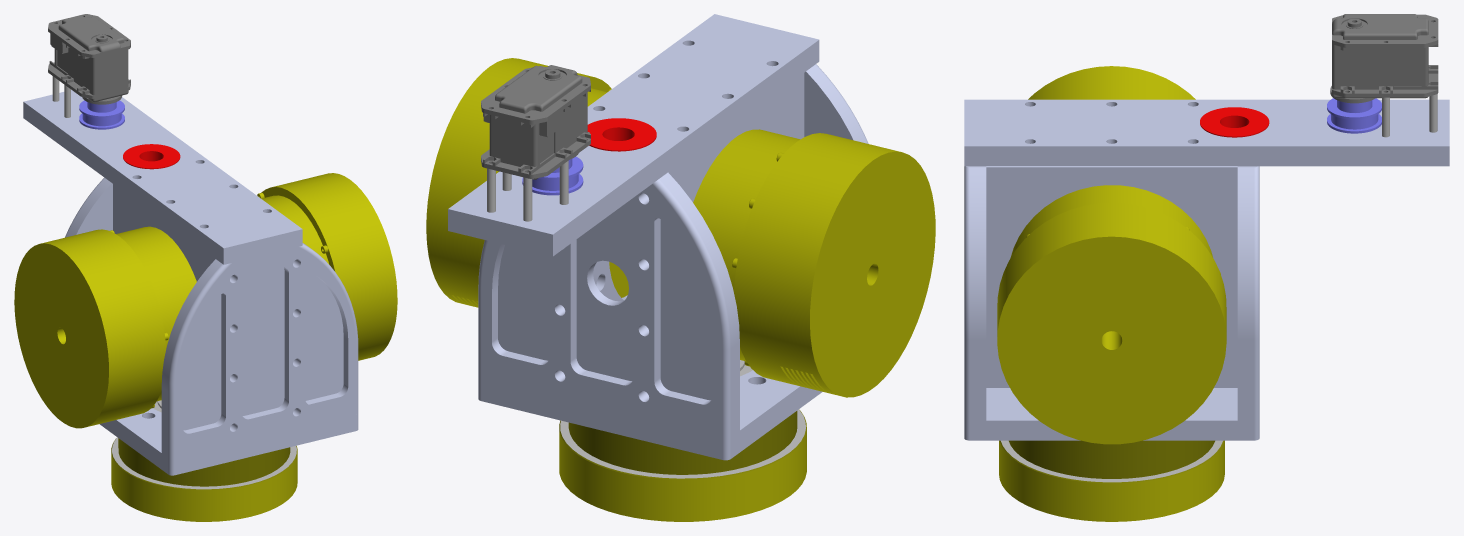
Rendered from bracket.dae.
The picture shows the model from 3 angles, left to right: view 1: azimuth 30°, elevation 25°; view 2: azimuth 150°, elevation 25°; view 3: azimuth 270°, elevation 25°; orthographic projection. The views are drawn at different scales.
Parts seen in each view (by area): view 1: Actor0, Actor5, Actor10, Actor6, Actor4, Actor9, Actor15, Actor3, Actor1, Actor7, Actor8; view 2: Actor5, Actor1, Actor10, Actor4, Actor6, Actor9, Actor15, Actor3, Actor0, Actor7, Actor8, Actor2; view 3: Actor6, Actor10, Actor2, Actor4, Actor9, Actor15, Actor0, Actor1, Actor5, Actor7, Actor8.
Boxes of the visible parts, x1,y1,x2,y2 form: Actor0: (161,243,358,458); Actor5: (14,226,196,428); Actor10: (23,90,302,264); Actor6: (257,173,397,360); Actor4: (111,400,297,521); Actor9: (48,14,130,104); Actor15: (99,408,358,475); Actor3: (113,184,215,281); Actor1: (65,177,112,237); Actor7: (123,144,180,169); Actor8: (79,100,124,129); Actor5: (693,129,935,397); Actor1: (478,172,739,438); Actor10: (448,14,819,256); Actor4: (559,360,806,521); Actor6: (426,58,628,307); Actor9: (481,65,590,179); Actor15: (478,370,822,460); Actor3: (668,73,804,202); Actor0: (804,64,868,143); Actor7: (587,118,656,151); Actor8: (522,156,583,195); Actor2: (593,260,627,301); Actor6: (997,185,1226,444); Actor10: (964,99,1449,166); Actor2: (986,166,1237,387); Actor4: (999,440,1224,521); Actor9: (1330,14,1438,103); Actor15: (964,388,1259,440); Actor0: (964,166,986,420); Actor1: (1237,166,1259,420); Actor5: (1028,66,1195,99); Actor7: (1200,107,1269,137); Actor8: (1327,98,1381,133).
Size of the model in its own units: 0.2322 by 0.2867 by 0.2794.
